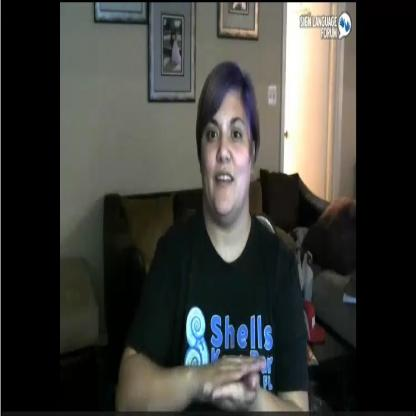NiceToMeetYou: (187, 329, 268, 416)
